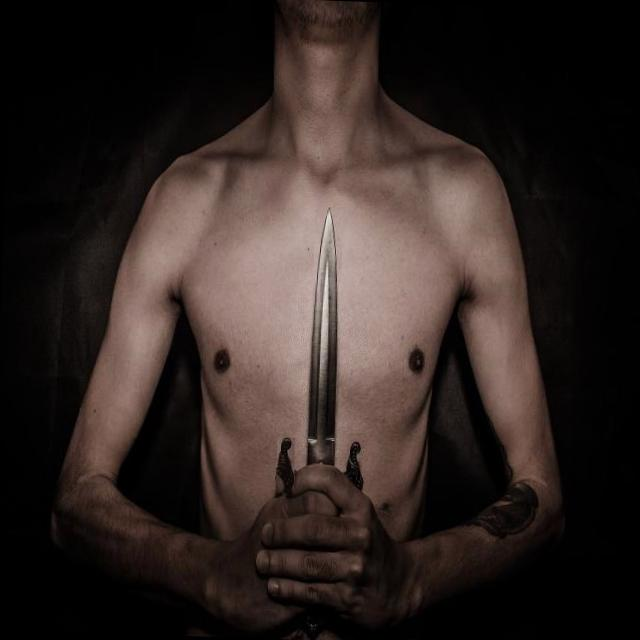Knife: (306, 209, 338, 464), (276, 437, 293, 495), (345, 441, 363, 488)
